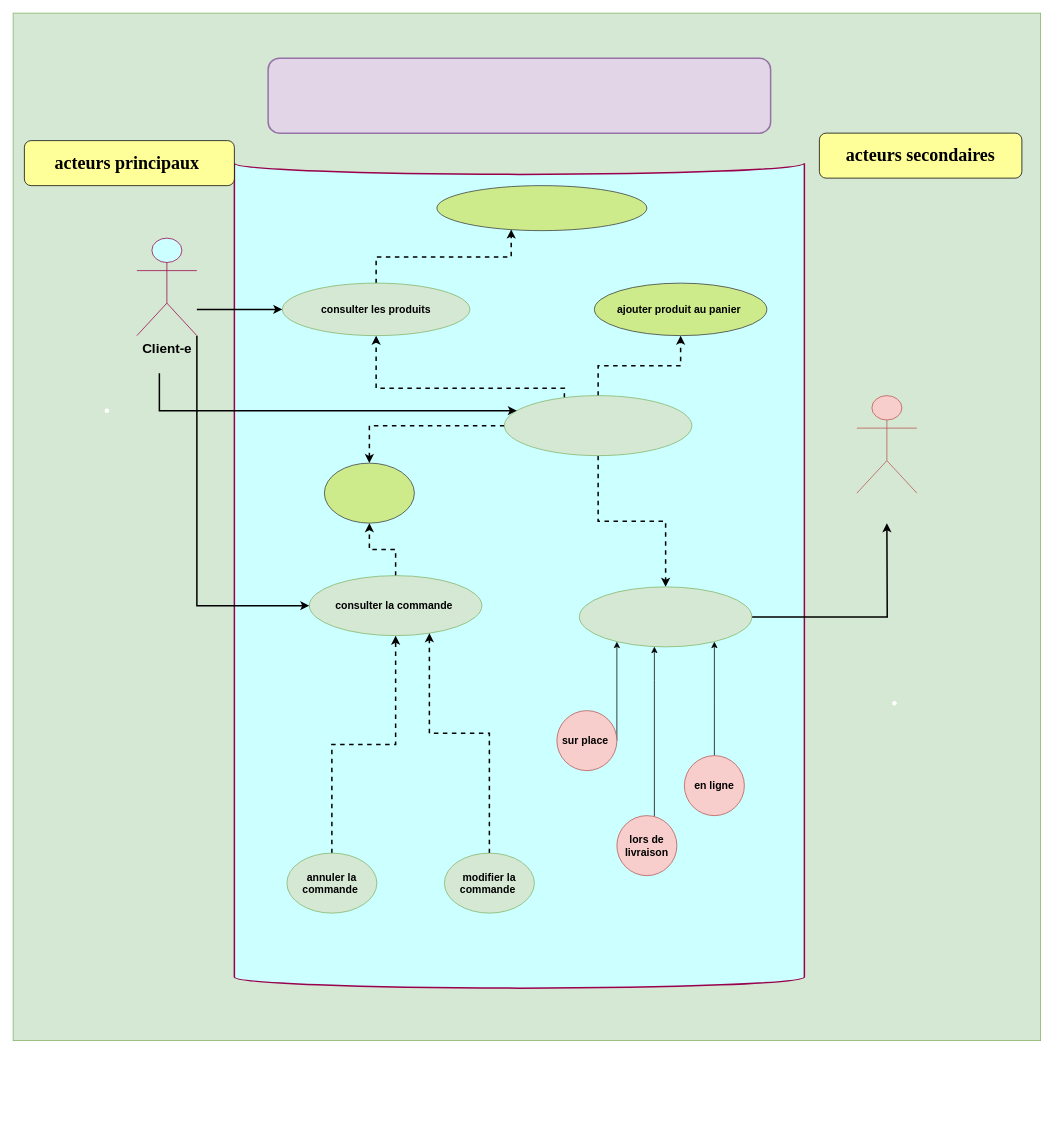
Image size: 1054x1121. Some labels were removed from this diagram. The centre of each missing label's shape, as x and y in pixels:
"Cas d'utilisation interface web client-e" goes at point (519, 95).
"passer la commande" goes at point (598, 425).
"payer la commande" goes at point (665, 616).
"s'identifier" goes at point (369, 492).
"Système Banquaire" goes at point (886, 444).
"Trouver le restaurant" goes at point (541, 208).
